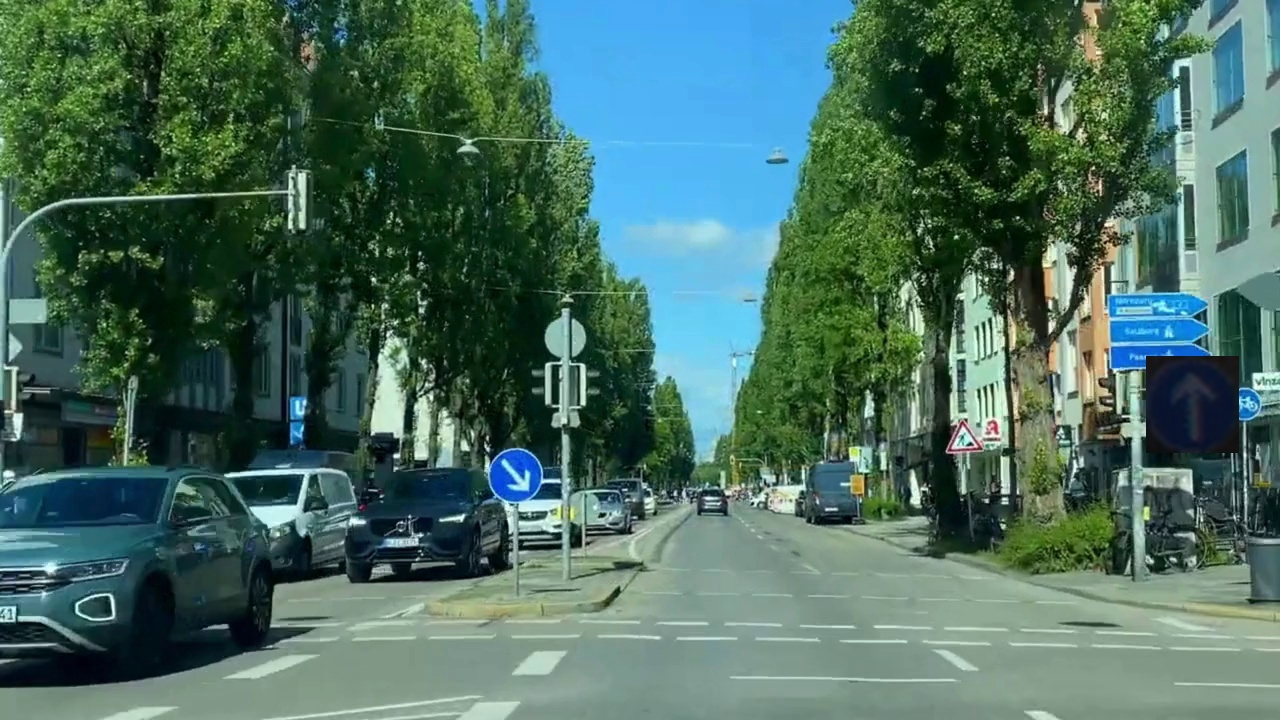Ahead only: (1146, 356, 1239, 453)
